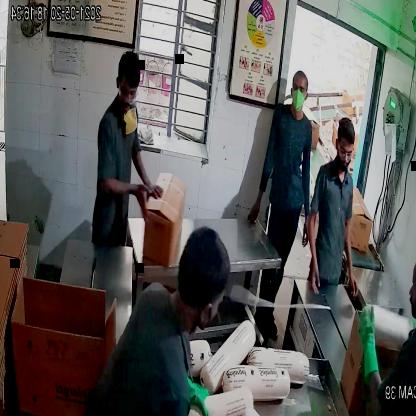no_goggles: (116, 88, 141, 108), (338, 141, 356, 162)
